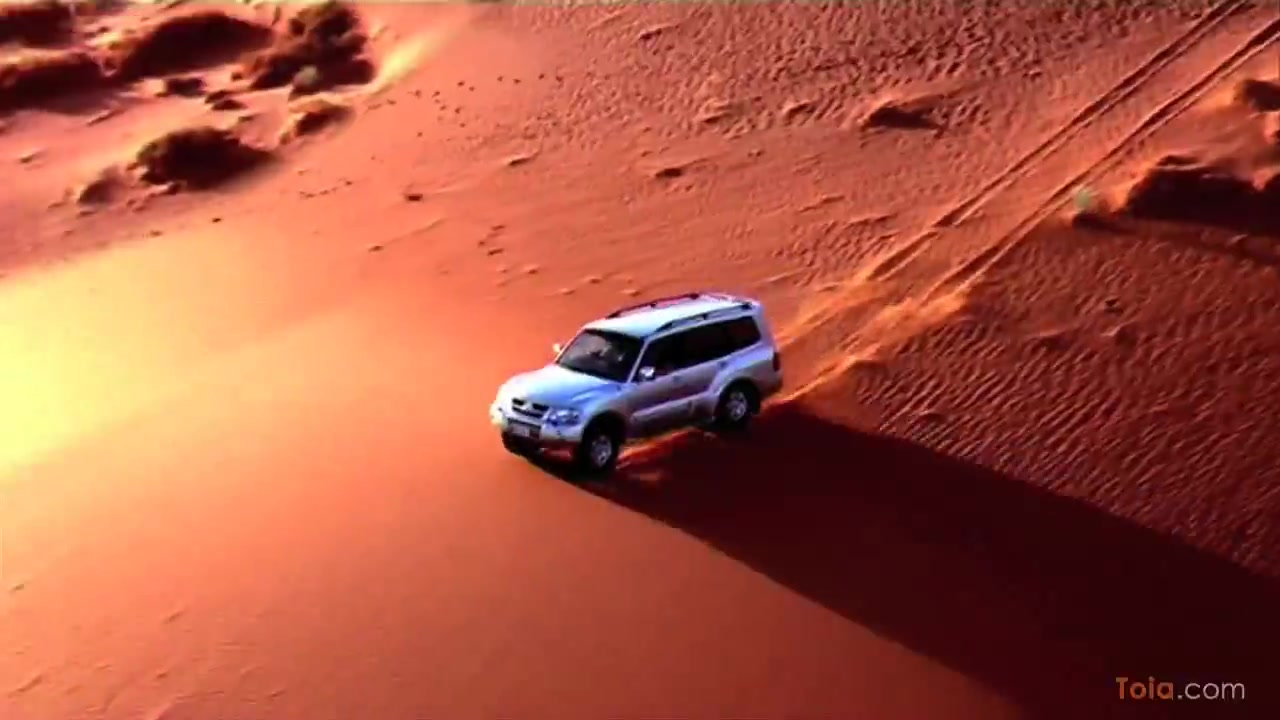car: (490, 291, 789, 477)
